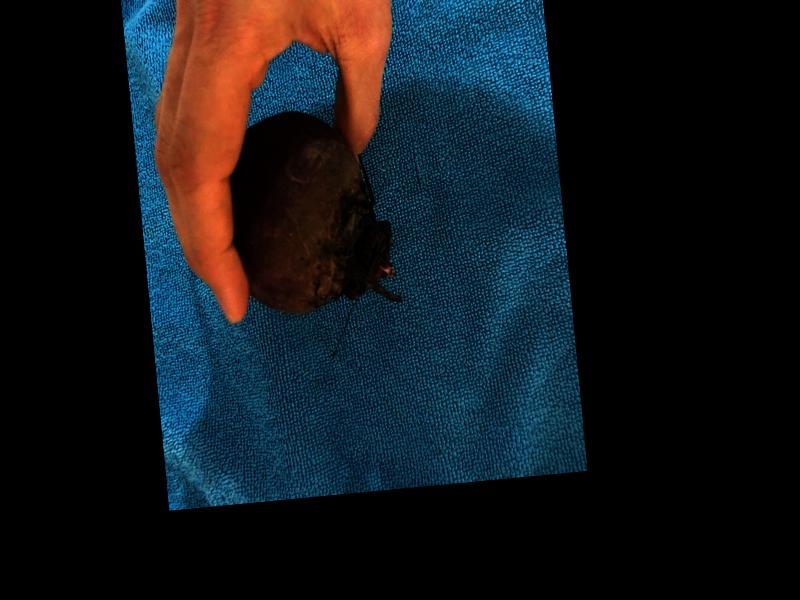Beet: (224, 104, 401, 318)
